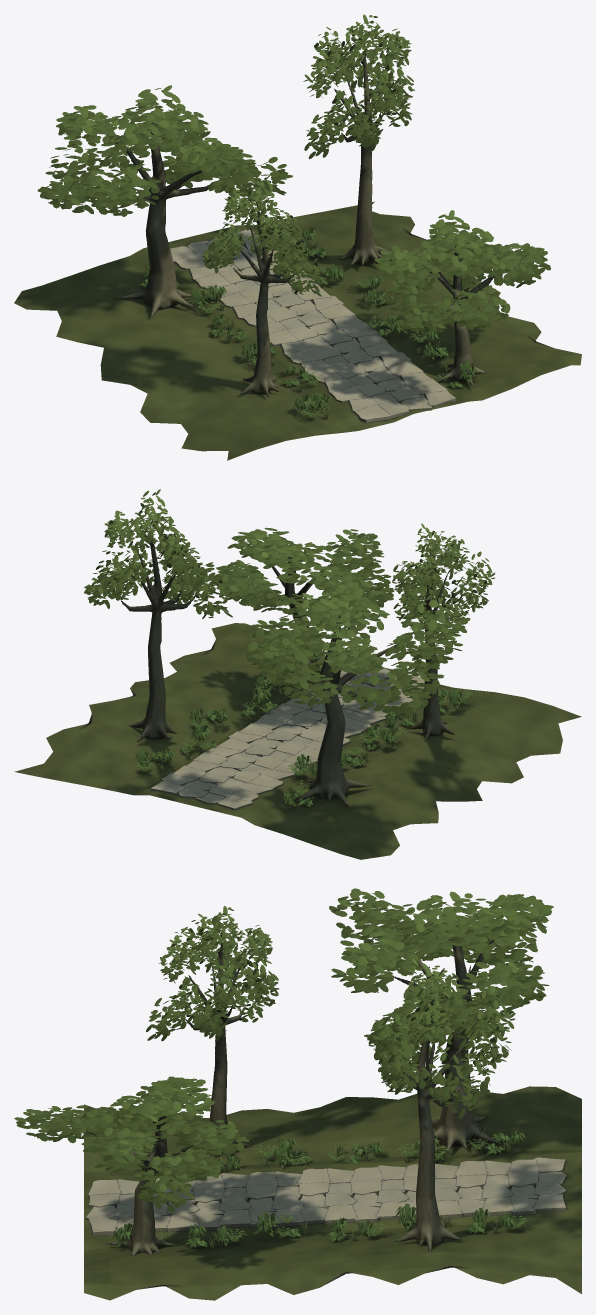
The picture shows the model from 3 angles, top to bottom: view 1: azimuth 30°, elevation 25°; view 2: azimuth 150°, elevation 25°; view 3: azimuth 270°, elevation 25°; orthographic projection. The views are drawn at different scales.
Visible parts, largest first — view 1: ForestPatch_Baked_Cell_-1_-2, ForestPatch_Baked_Cell_-1_-3, ForestPatch_Foliage_Cell_-1_-2, ForestPatch_Foliage_Cell_-1_-3, ForestPatch_Baked_Cell_-2_-2, ForestPatch_Baked_Cell_-2_-3, ForestPatch_Foliage_Cell_-2_-3, ForestPatch_Foliage_Cell_-2_-2; view 2: ForestPatch_Baked_Cell_-1_-3, ForestPatch_Baked_Cell_-1_-2, ForestPatch_Foliage_Cell_-1_-3, ForestPatch_Baked_Cell_-2_-3, ForestPatch_Baked_Cell_-2_-2, ForestPatch_Foliage_Cell_-2_-3, ForestPatch_Foliage_Cell_-1_-2, ForestPatch_Foliage_Cell_-2_-2; view 3: ForestPatch_Baked_Cell_-1_-3, ForestPatch_Baked_Cell_-1_-2, ForestPatch_Foliage_Cell_-1_-2, ForestPatch_Foliage_Cell_-1_-3, ForestPatch_Baked_Cell_-2_-3, ForestPatch_Foliage_Cell_-2_-3, ForestPatch_Baked_Cell_-2_-2, ForestPatch_Foliage_Cell_-2_-2.
Boxes of the visible parts, x1,y1,x2,y2 form: ForestPatch_Baked_Cell_-1_-2: [214, 245, 581, 435]; ForestPatch_Baked_Cell_-1_-3: [112, 44, 448, 344]; ForestPatch_Foliage_Cell_-1_-2: [223, 154, 550, 419]; ForestPatch_Foliage_Cell_-1_-3: [143, 14, 414, 336]; ForestPatch_Baked_Cell_-2_-2: [102, 202, 332, 460]; ForestPatch_Baked_Cell_-2_-3: [14, 122, 218, 379]; ForestPatch_Foliage_Cell_-2_-3: [37, 88, 219, 336]; ForestPatch_Foliage_Cell_-2_-2: [117, 153, 321, 418]; ForestPatch_Baked_Cell_-1_-3: [14, 526, 382, 825]; ForestPatch_Baked_Cell_-1_-2: [130, 557, 494, 760]; ForestPatch_Foliage_Cell_-1_-3: [84, 489, 361, 805]; ForestPatch_Baked_Cell_-2_-3: [255, 614, 482, 859]; ForestPatch_Baked_Cell_-2_-2: [362, 555, 581, 800]; ForestPatch_Foliage_Cell_-2_-3: [283, 581, 466, 806]; ForestPatch_Foliage_Cell_-1_-2: [193, 527, 459, 760]; ForestPatch_Foliage_Cell_-2_-2: [364, 523, 494, 744]; ForestPatch_Baked_Cell_-1_-3: [346, 976, 581, 1293]; ForestPatch_Baked_Cell_-1_-2: [84, 1008, 355, 1300]; ForestPatch_Foliage_Cell_-1_-2: [14, 947, 353, 1248]; ForestPatch_Foliage_Cell_-1_-3: [348, 910, 536, 1241]; ForestPatch_Baked_Cell_-2_-3: [346, 925, 581, 1157]; ForestPatch_Foliage_Cell_-2_-3: [347, 888, 553, 1149]; ForestPatch_Baked_Cell_-2_-2: [84, 931, 345, 1170]; ForestPatch_Foliage_Cell_-2_-2: [143, 896, 354, 1152].
Size of the model in its own units: 19.31 by 13.42 by 21.67.
2 materials, 1 textured.
